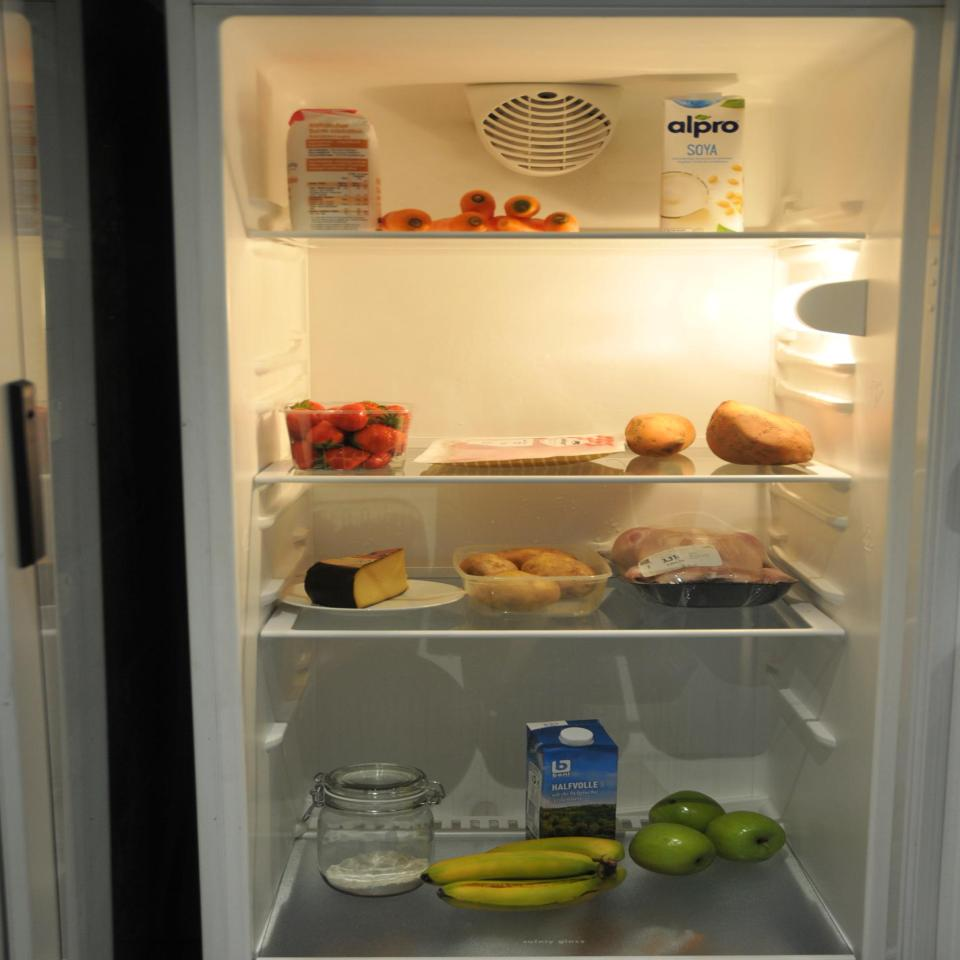Carne pollo: (599, 519, 798, 606)
Leche: (523, 712, 625, 875), (663, 88, 751, 236)
Manzana: (617, 786, 792, 873)
Plátano: (418, 836, 635, 910)
Queso: (305, 546, 418, 611)
Zanahoria: (376, 187, 586, 239)
strawberries: (281, 394, 414, 472)
